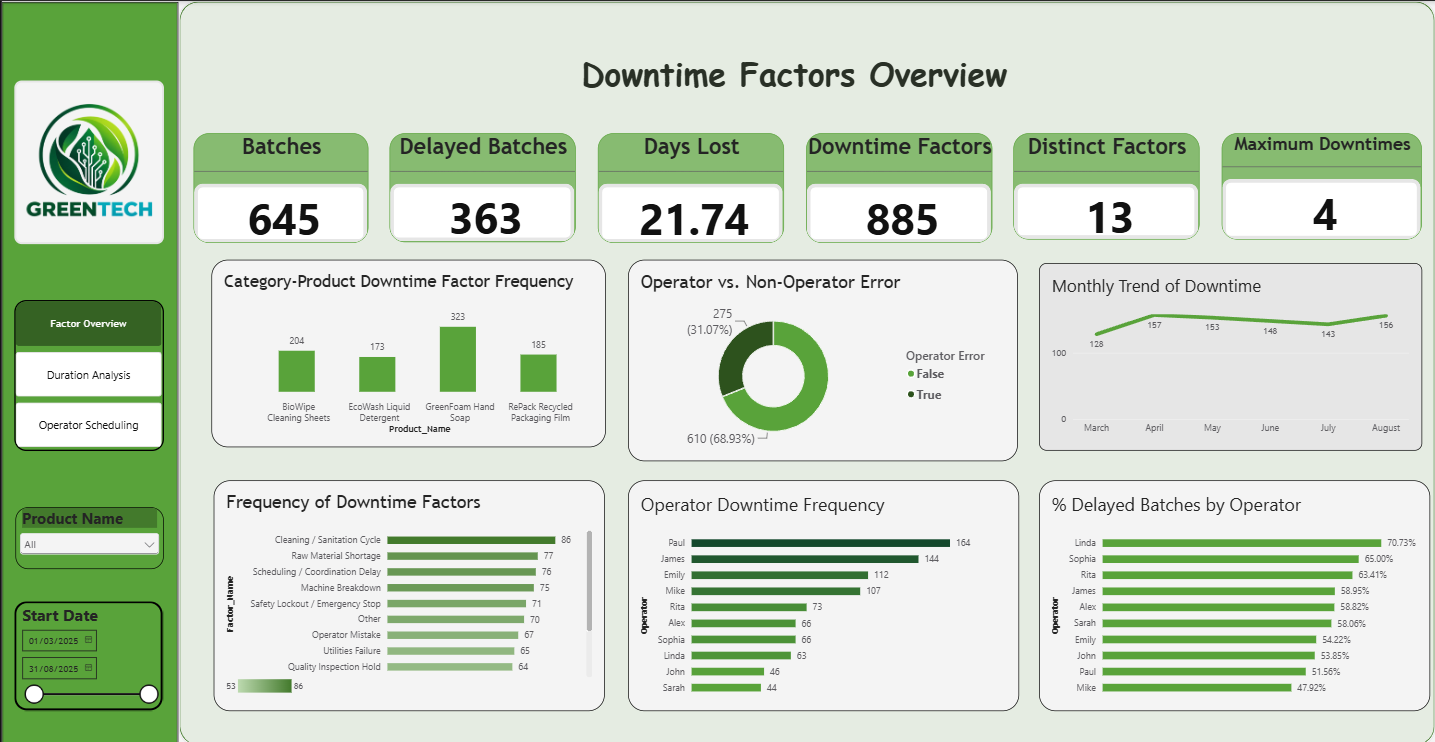

The dashboard page shown, as its layout file describes it:
{"tool":"powerbi","page":{"name":"Factor Overview","canvas":[1924,1000],"ordinal":0},"visuals":[{"type":"textbox","box":[472.6,65.5,1397.5,74.9],"z":0},{"type":"shape","box":[238.2,0,1686.7,999.9],"z":1000},{"type":"cardVisual","title":"Delayed Batches","fields":{"Data":["Count(downtimes.Batch_ID)"]},"box":[520.8,176.8,250,146.1],"z":2000},{"type":"shape","box":[0,1.7,236.3,999.7],"z":3000},{"type":"cardVisual","title":"Batches","fields":{"Data":["CountNonNull(batch_pd.Batch_ID)"]},"box":[256.7,176.8,234.9,147.6],"z":4000},{"type":"cardVisual","title":"Days Lost","fields":{"Data":["Sum(downtimes.Days)"]},"box":[799.8,176.8,250,147.6],"z":5000},{"type":"cardVisual","title":"Downtime  Factors","fields":{"Data":["CountNonNull(downtimes.Batch_ID)"]},"box":[1078.9,176.8,250,147.6],"z":6000},{"type":"cardVisual","title":"Distinct Factors","fields":{"Data":["Count(downtimes.Factor_ID)"]},"box":[1358,176.8,250,143.1],"z":7000},{"type":"cardVisual","title":"Maximum  Downtimes","fields":{"Data":["downtimes.Max Downtime Per Batch"]},"box":[1637.1,176.8,268.9,142.9],"z":8000},{"type":"columnChart","title":"Category-Product Downtime Factor Frequency","fields":{"Category":["products.Category Hierarchy.Category","products.Category Hierarchy.Product_Name"],"Y":["CountNonNull(downtimes.Factor_ID)"]},"box":[280.8,347.2,529.2,251.9],"z":9000},{"type":"donutChart","title":"Operator vs. Non-Operator Error","fields":{"Category":["downtime_factors.Operator_Error"],"Y":["CountNonNull(downtimes.Factor_ID)"]},"box":[840.5,347.3,523.2,270.6],"z":10000},{"type":"lineChart","title":"Monthly Trend of Downtime","fields":{"Category":["batch_pd.Start_Date.Variation.Date Hierarchy.Year","batch_pd.Start_Date.Variation.Date Hierarchy.Quarter","batch_pd.Start_Date.Variation.Date Hierarchy.Month","batch_pd.Start_Date.Variation.Date Hierarchy.Day"],"Y":["CountNonNull(downtimes.Factor_ID)"]},"box":[1392,352.3,513.9,251.9],"z":11000},{"type":"barChart","title":"Frequency of Downtime Factors","fields":{"Category":["downtime_factors.Factor_Name"],"Y":["CountNonNull(downtimes.Factor_ID)"]},"box":[284.2,643.3,525.4,309.4],"z":12000},{"type":"barChart","title":"Operator Downtime Frequency","fields":{"Category":["batch_pd.Operator"],"Y":["CountNonNull(downtimes.Factor_ID)"]},"box":[841.2,643.9,525.4,309.4],"z":13000},{"type":"barChart","title":"% Delayed Batches by Operator","fields":{"Category":["batch_pd.Operator"],"Y":["batch_pd.Delayed Batches %"]},"box":[1392,643.3,525.4,309.4],"z":14000},{"type":"slicer","fields":{"Values":["products.Product_Name"]},"box":[18.7,679,199.1,83.4],"z":15000},{"type":"slicer","title":"Start Date","fields":{"Values":["batch_pd.Start_Date"]},"box":[17,806.6,199.1,146.3],"z":16000},{"type":"image","box":[17,107.2,200.8,219.5],"z":17000},{"type":"pageNavigator","box":[17,401.6,200.8,202.5],"z":19500}]}

Visuals, with their boxes in screenshot pixels (x1, y1, x2, y2), scaled from the page's 1924x1000 canvas onto the 1435x742 screenshot:
textbox: Rect(352, 49, 1395, 104)
shape: Rect(178, 0, 1434, 741)
"Delayed Batches" cardVisual: Rect(388, 131, 575, 240)
shape: Rect(0, 1, 176, 741)
"Batches" cardVisual: Rect(191, 131, 367, 241)
"Days Lost" cardVisual: Rect(597, 131, 783, 241)
"Downtime  Factors" cardVisual: Rect(805, 131, 991, 241)
"Distinct Factors" cardVisual: Rect(1013, 131, 1199, 237)
"Maximum  Downtimes" cardVisual: Rect(1221, 131, 1422, 237)
"Category-Product Downtime Factor Frequency" columnChart: Rect(209, 258, 604, 445)
"Operator vs. Non-Operator Error" donutChart: Rect(627, 258, 1017, 458)
"Monthly Trend of Downtime" lineChart: Rect(1038, 261, 1422, 448)
"Frequency of Downtime Factors" barChart: Rect(212, 477, 604, 707)
"Operator Downtime Frequency" barChart: Rect(627, 478, 1019, 707)
"% Delayed Batches by Operator" barChart: Rect(1038, 477, 1430, 707)
slicer - products.Product_Name: Rect(14, 504, 162, 566)
"Start Date" slicer: Rect(13, 598, 161, 707)
image: Rect(13, 80, 162, 242)
pageNavigator: Rect(13, 298, 162, 448)
